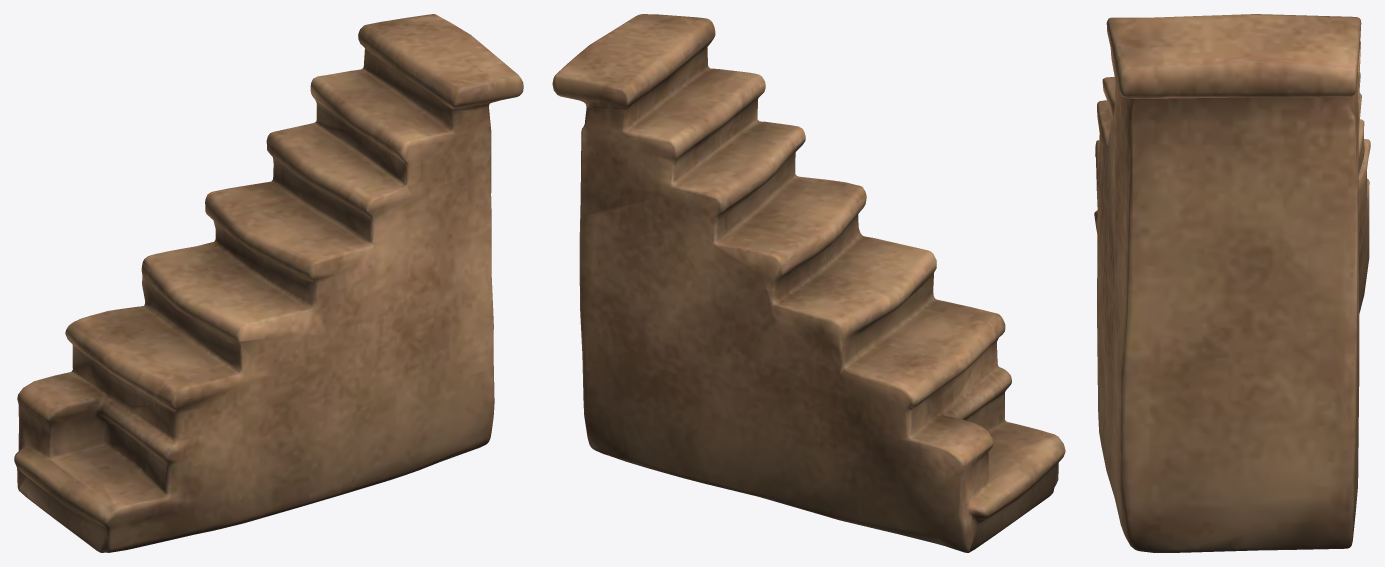
The model's file is old-sandstone-straight-staircase-v002.glb.
3 views of the same model, side by side, from view 1: azimuth 30°, elevation 25°; view 2: azimuth 150°, elevation 25°; view 3: azimuth 270°, elevation 25° (orthographic). The views are drawn at different scales.
Visible parts, largest first — view 1: old-sandstone-straight-staircase; view 2: old-sandstone-straight-staircase; view 3: old-sandstone-straight-staircase.
Boxes of the visible parts, <box> form: old-sandstone-straight-staircase: <box>14,14,523,552</box>; old-sandstone-straight-staircase: <box>552,14,1065,552</box>; old-sandstone-straight-staircase: <box>1094,14,1370,552</box>.
Size of the model in its own units: 1.67 by 1.43 by 0.6784.
Materials: 1 (1 with a texture image).
